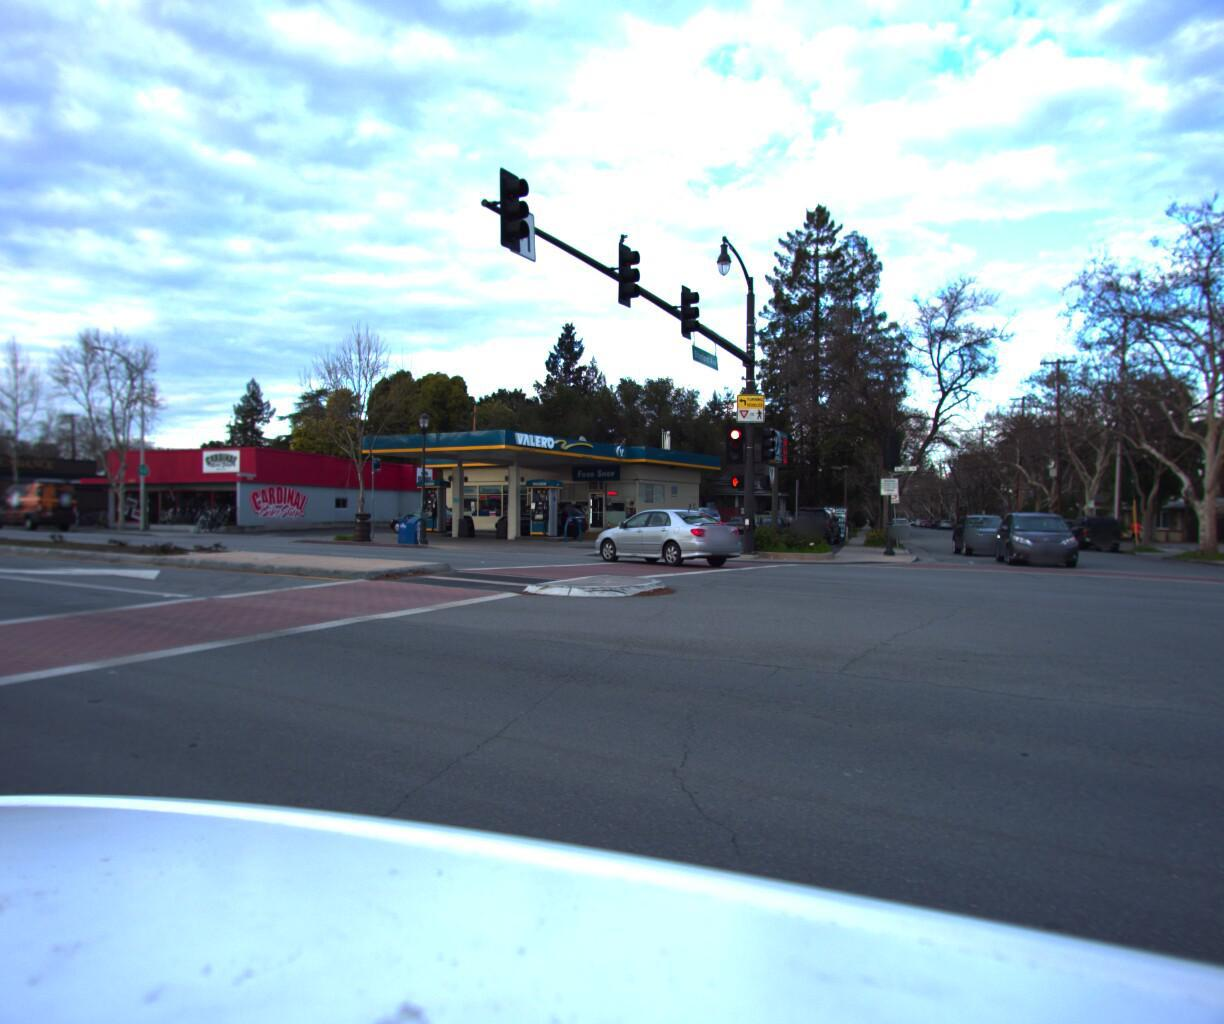bicycle: (192, 505, 224, 530), (187, 506, 218, 530), (217, 506, 246, 529), (211, 506, 240, 529), (203, 506, 232, 529)
car: (584, 500, 755, 569), (986, 501, 1088, 565), (485, 497, 592, 534), (945, 506, 1023, 554), (380, 500, 477, 532), (1057, 508, 1122, 547), (785, 500, 844, 540), (723, 507, 754, 529), (886, 510, 915, 530)
